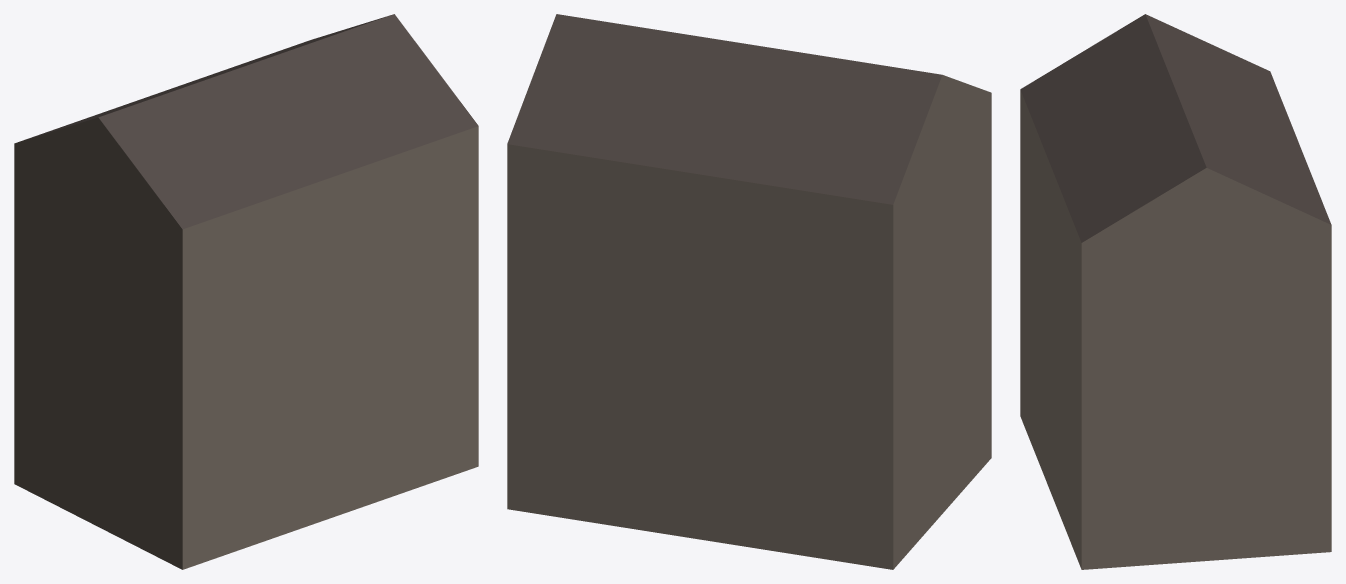
3 renders of one model, left to right at view 1: azimuth 30°, elevation 25°; view 2: azimuth 150°, elevation 25°; view 3: azimuth 270°, elevation 25°, orthographic. The views are drawn at different scales.
Parts seen in each view (by area): view 1: HP-w1424106446; view 2: HP-w1424106446; view 3: HP-w1424106446.
Boxes of the visible parts, bbox=[...] form: HP-w1424106446: bbox=[14, 14, 478, 569]; HP-w1424106446: bbox=[507, 14, 991, 569]; HP-w1424106446: bbox=[1020, 14, 1331, 569].
Bounding box in the file's own units: 6.76 × 7.22 × 5.18.
